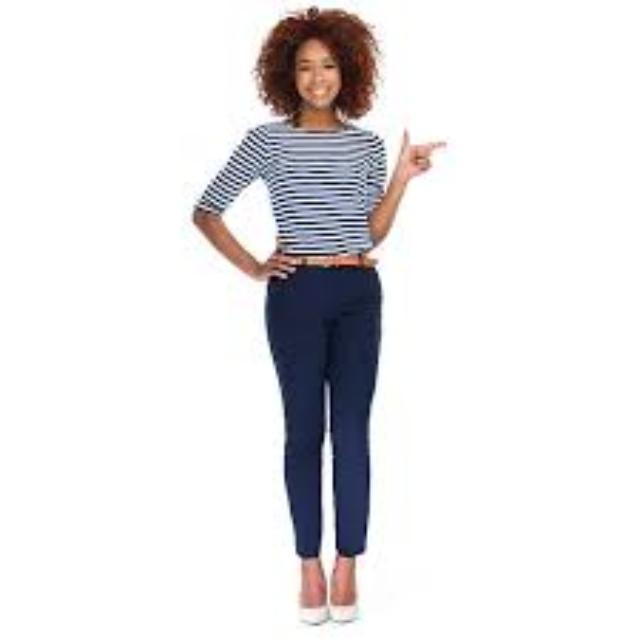person: (194, 6, 452, 608)
